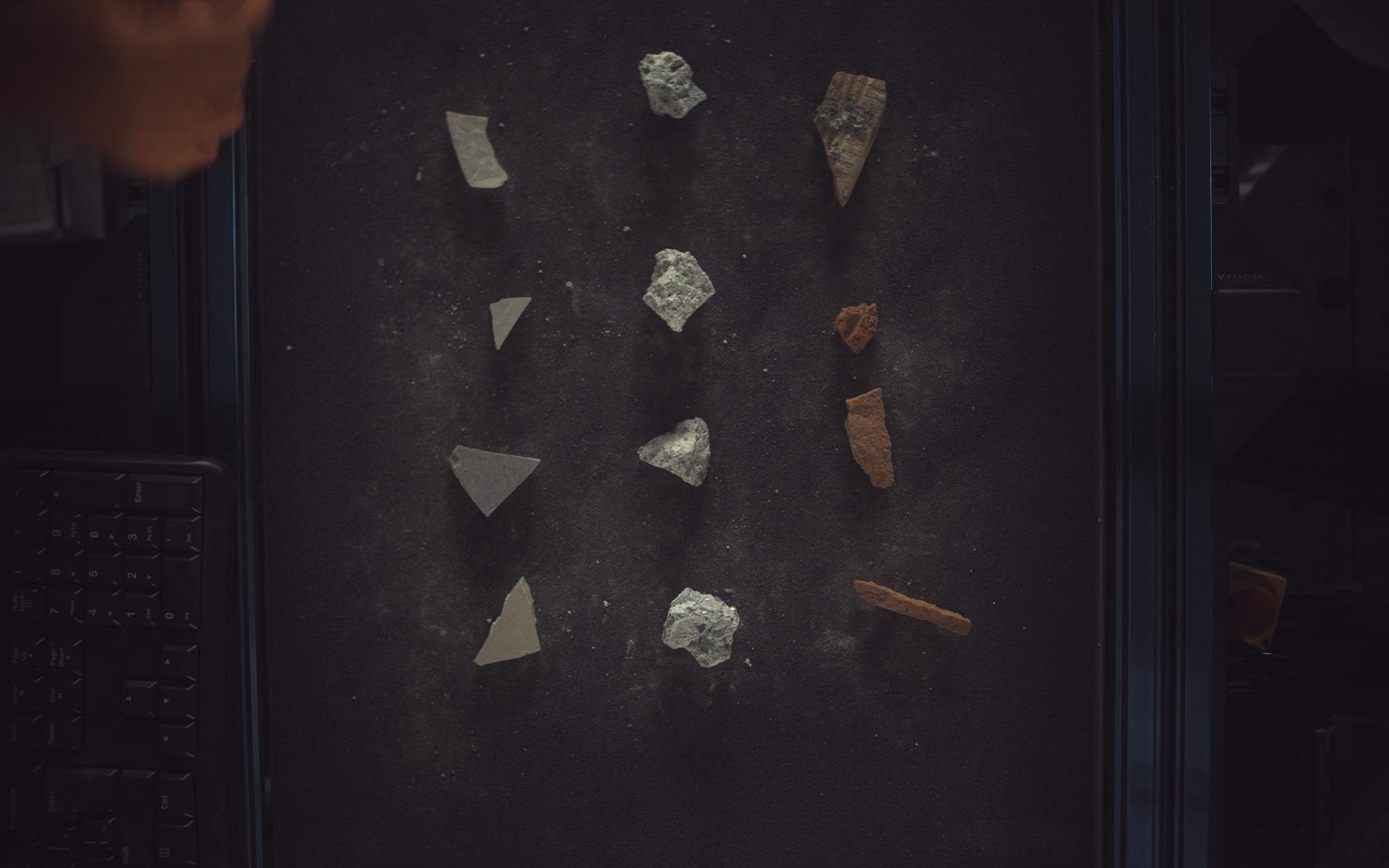brick: (816, 70, 888, 205), (856, 582, 973, 637), (847, 388, 896, 489), (836, 303, 880, 353)
concrete: (663, 588, 741, 669), (645, 248, 716, 331), (638, 417, 711, 487), (640, 50, 708, 118)
tile: (449, 445, 540, 517), (475, 577, 541, 666), (446, 110, 509, 187), (490, 297, 532, 349)
